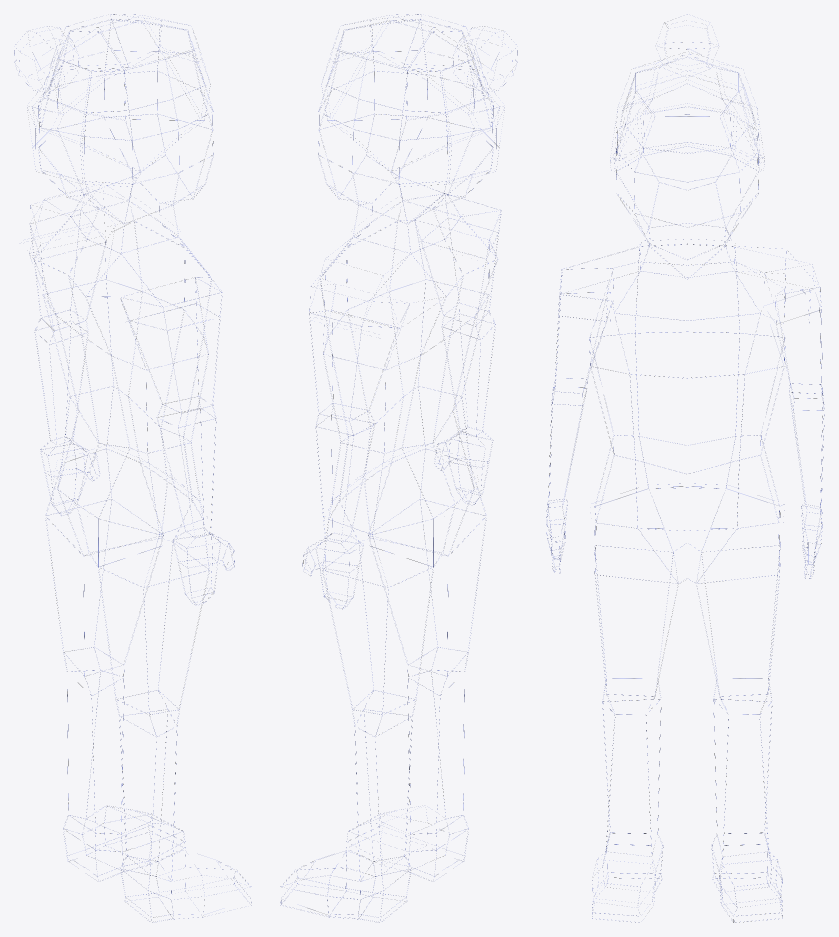
Rendered from char_holo_02.glb.
3 views of the same model, side by side, from view 1: azimuth 30°, elevation 25°; view 2: azimuth 150°, elevation 25°; view 3: azimuth 270°, elevation 25° (orthographic). The views are drawn at different scales.
Visible parts, largest first — view 1: char; view 2: char; view 3: char.
Boxes of the visible parts, <box> form: char: <box>14,14,251,922</box>; char: <box>280,14,517,922</box>; char: <box>546,14,824,922</box>.
Size of the model in its own units: 0.1106 by 0.4777 by 0.1451.
1 material, 1 textured.
